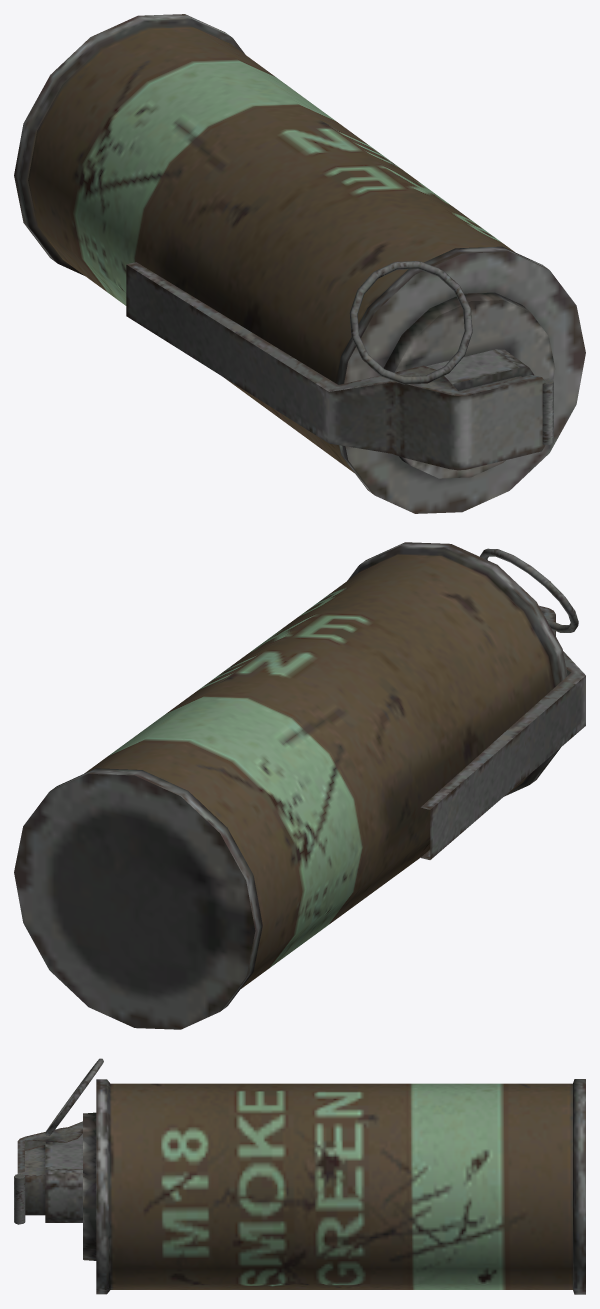
Rendered from weapon_usa_smoke_grenade_LOD00.obj.
3 views of the same model, one above another, from view 1: azimuth 30°, elevation 25°; view 2: azimuth 150°, elevation 25°; view 3: azimuth 270°, elevation 25° (orthographic). The views are drawn at different scales.
Visible parts, largest first — view 1: TomGroup_0; view 2: TomGroup_0; view 3: TomGroup_0.
Boxes of the visible parts, x1,y1,x2,y2 form: TomGroup_0: [14, 14, 585, 513]; TomGroup_0: [14, 542, 585, 1029]; TomGroup_0: [14, 1058, 585, 1294].
Bounding box in the file's own units: 6.2 × 5.57 × 14.49.
Materials: 1 (1 with a texture image).
